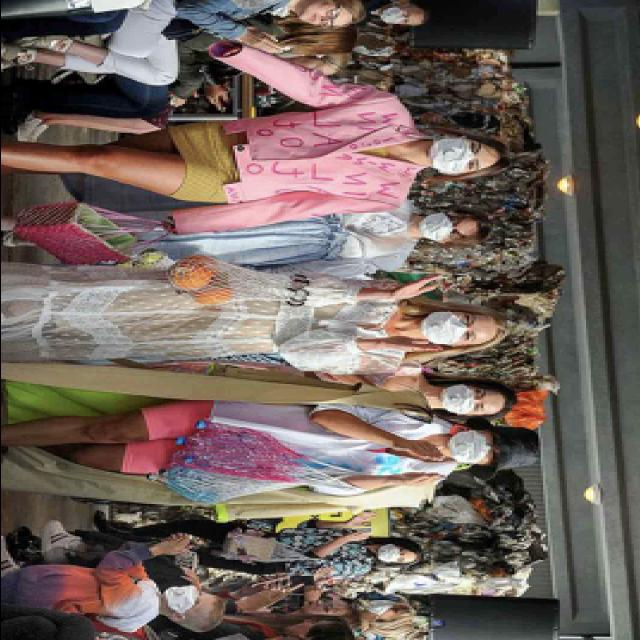mask: (420, 310, 480, 348), (428, 139, 488, 176), (446, 430, 502, 468), (440, 384, 490, 418), (416, 214, 468, 244), (160, 586, 208, 614), (379, 6, 414, 28), (372, 544, 408, 565), (366, 602, 402, 614)
no_mask: (296, 5, 344, 29), (279, 619, 325, 634), (299, 598, 339, 614)
